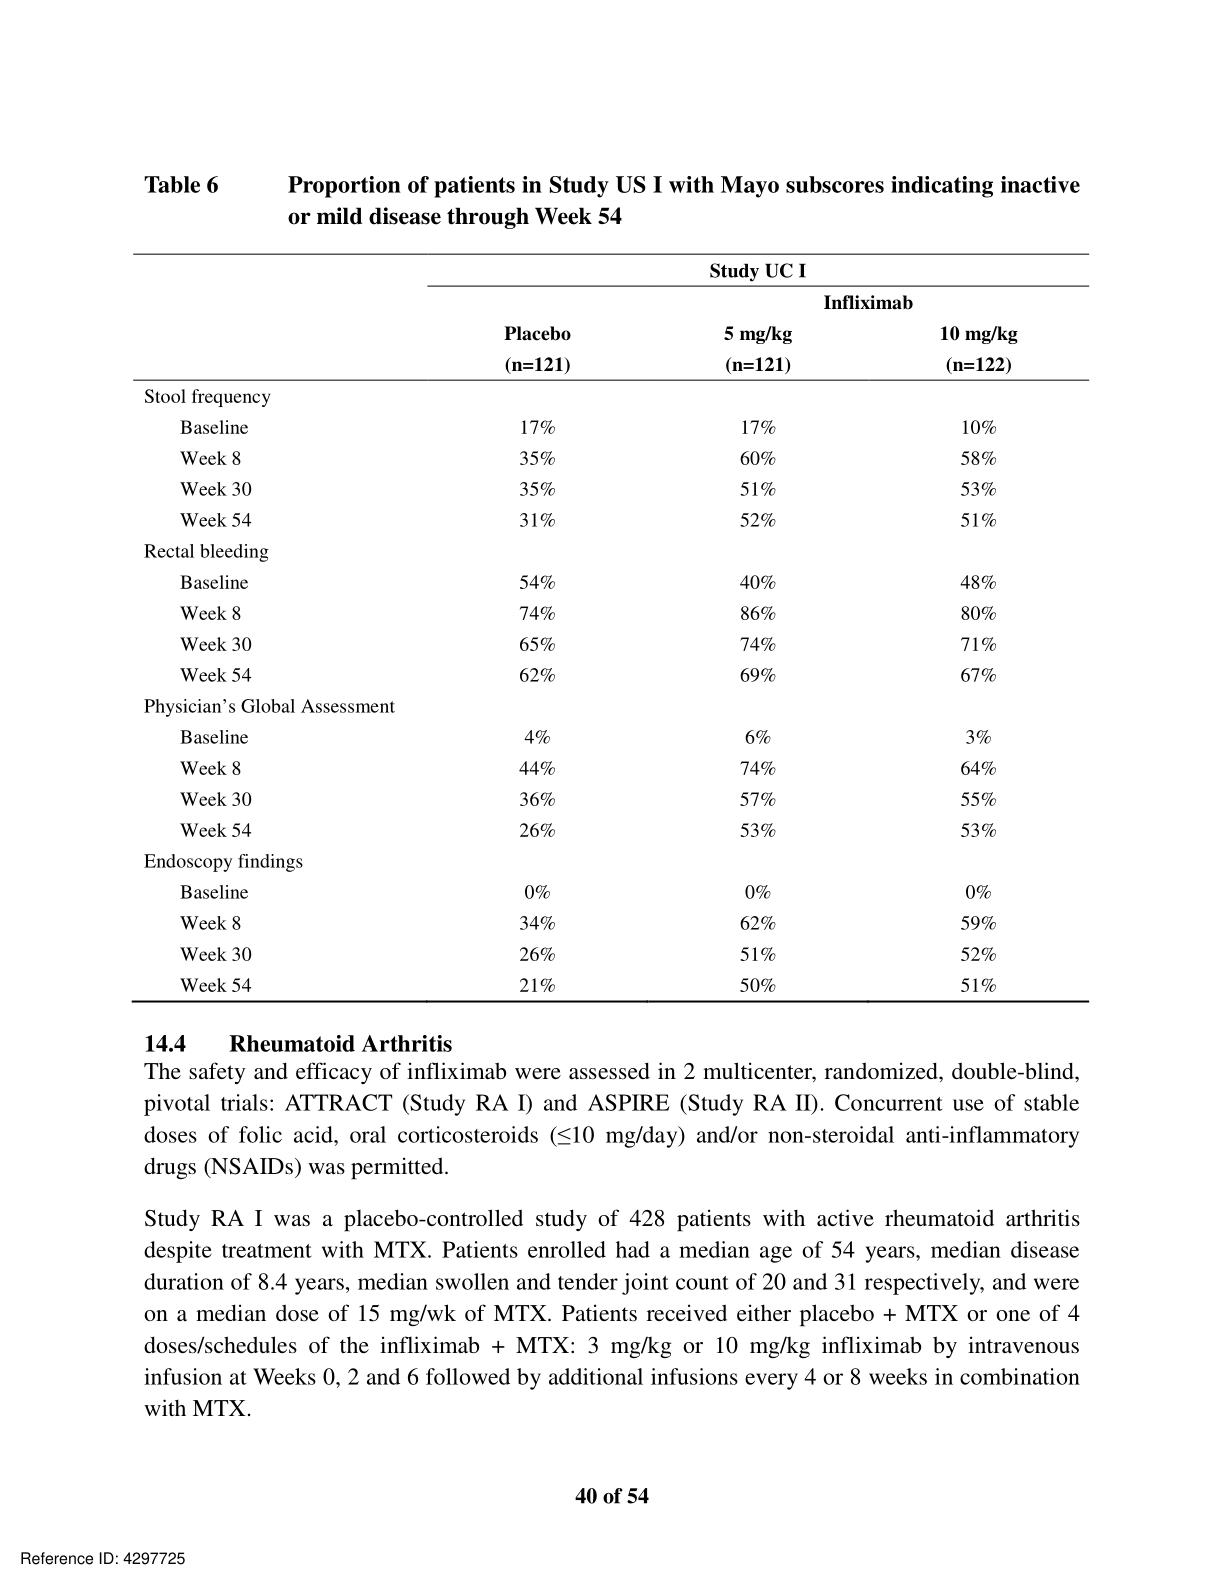partial_lined_merged_cells: (131, 251, 1090, 1004)
